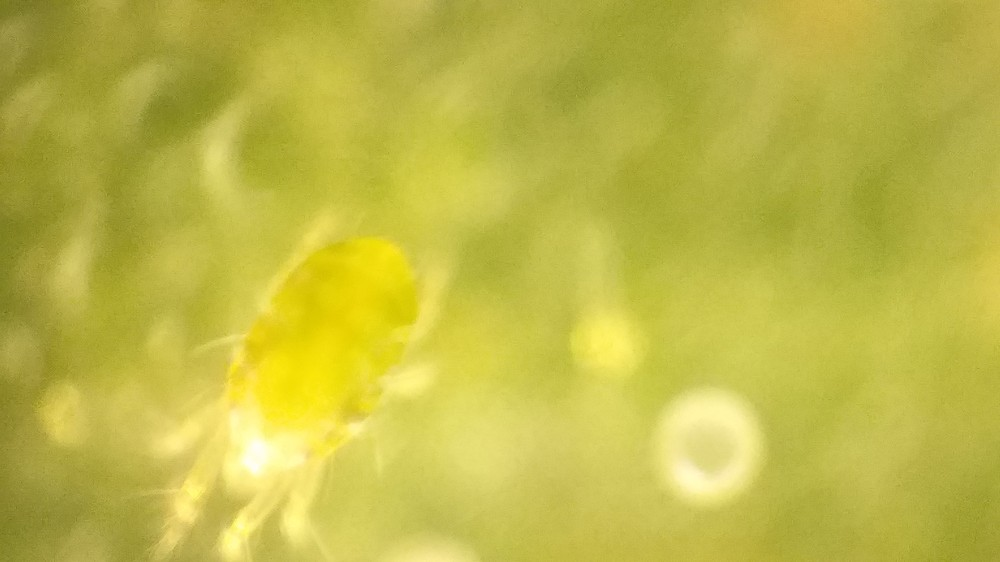Aracnido Rojo: (121, 205, 471, 550)
